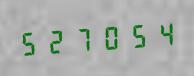five: (17, 25, 42, 59), (122, 18, 147, 52)
four: (148, 16, 173, 50)
seven: (70, 21, 95, 56)
two: (43, 23, 68, 57)
zero: (96, 20, 121, 54)
